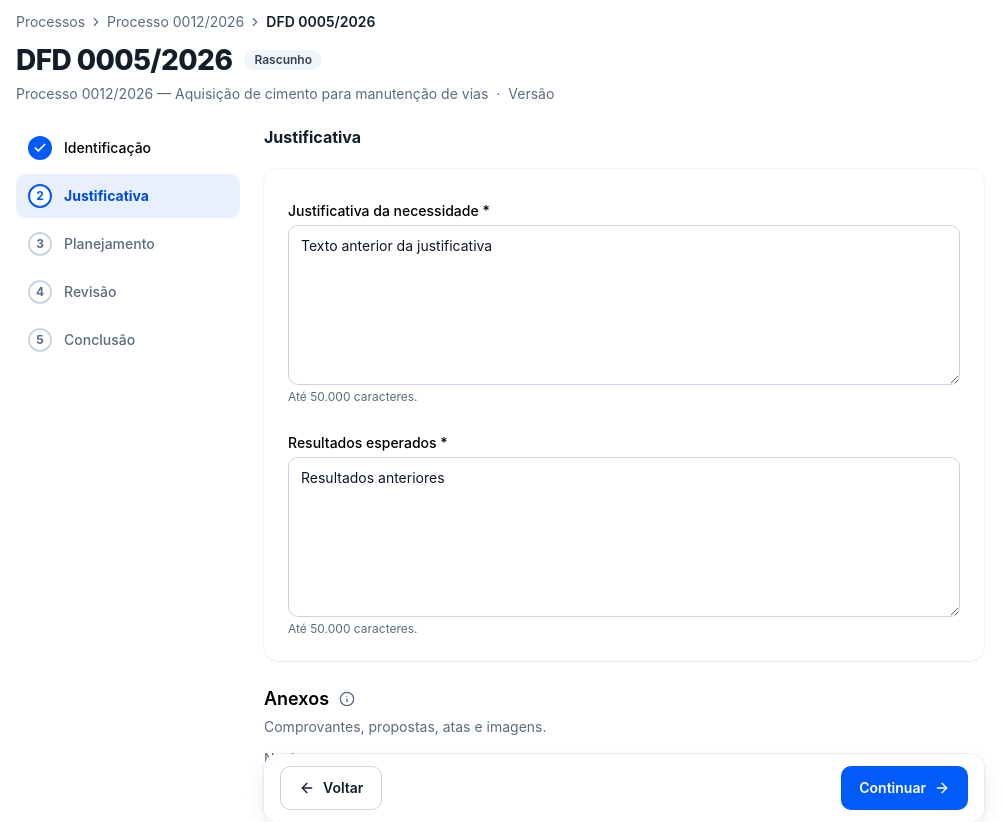
Test: SCR-007 — autosave, retomada e conflito (US-015) › [Permissão] DFD enviado para aprovação em outra aba: "Este documento não pode mais ser editado (Em revisão desde 14:40)."
This screenshot has width=1002, height=822.
Type " pendente" into the text box labelled "Justificativa da necessidade *". click: (624, 305)
box: [288, 225, 960, 385]
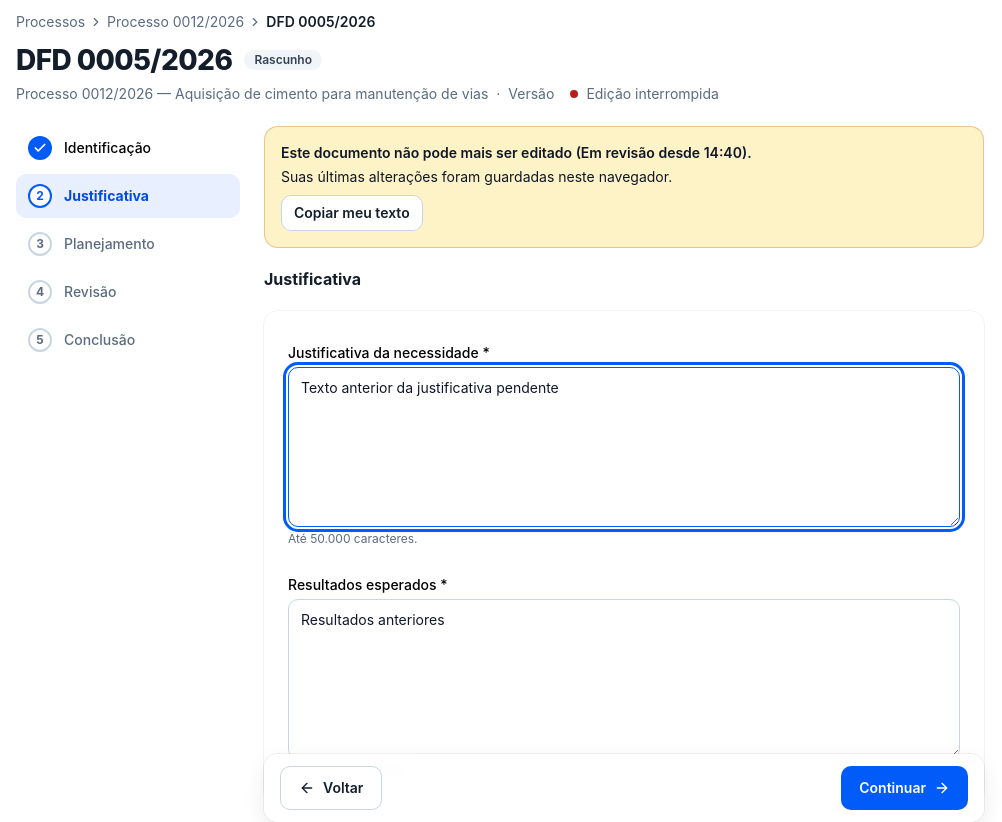
expect the text "Este documento não pode mais ser editado (Em revisão desde 14:40)." is shown: met, box [281, 144, 752, 161]
